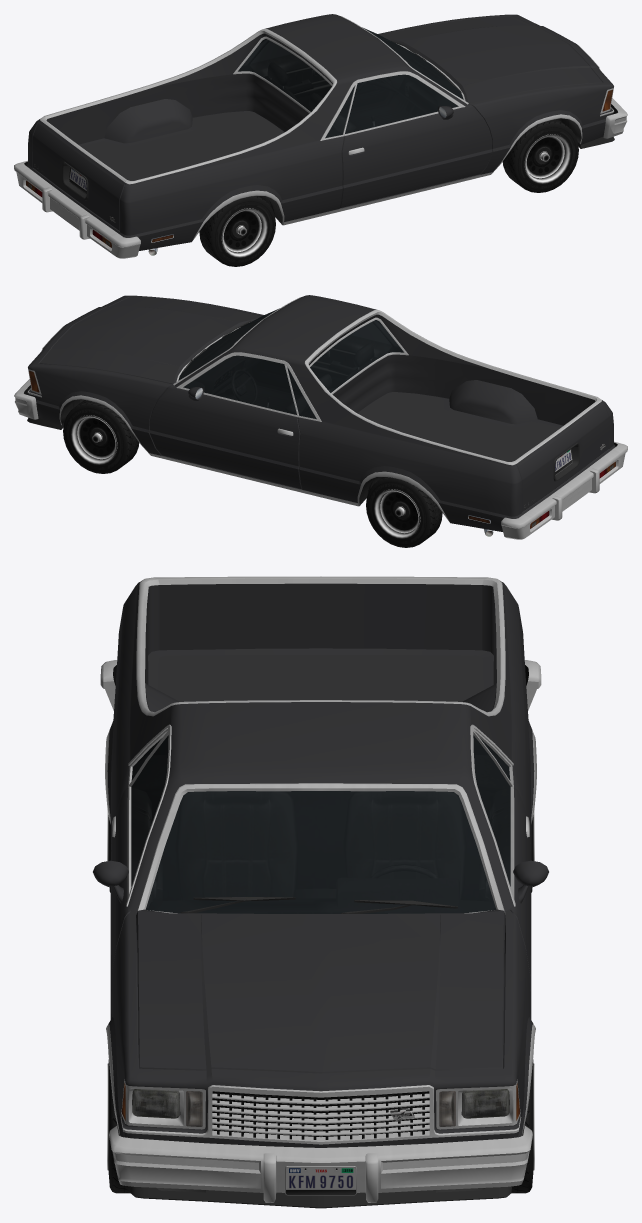
The model's file is elalamo78.glb.
The picture shows the model from 3 angles, top to bottom: view 1: azimuth 30°, elevation 25°; view 2: azimuth 150°, elevation 25°; view 3: azimuth 270°, elevation 25°; orthographic projection. The views are drawn at different scales.
Parts seen in each view (by area): view 1: ElAlamo78_Body_ElAlamo78_Bodymat_0, ElAlamo78_Hood_ElAlamo78_Bodymat_0, ElAlamo78_Bottom_UCB_BOTTOM_0, ElAlamo78_Interior_UCB_Interiors_2_0, ElAlamo78_Trunkdoor_ElAlamo78_Bodymat_0, ElAlamo78_WheelStock_FR_RB1c_Tire_1k_0, ElAlamo78_WheelStock_RR_RB1c_Tire_1k_0, ElAlamo78_Glass_Driver001_UCB_Lights_and_Glass_Transperent_0, ElAlamo78_Bumper_Rear_UCB_BOTTOM_0, ElAlamo78_Rear_Glass_UCB_Lights_and_Glass_Transperent_0, ElAlamo78_Windshield_UCB_Lights_and_Glass_Transperent_0, ElAlamo78_Trunkdoor_Inner_UCB_BOTTOM_0 (+3 smaller); view 2: ElAlamo78_Body_ElAlamo78_Bodymat_0, ElAlamo78_Hood_ElAlamo78_Bodymat_0, ElAlamo78_Bottom_UCB_BOTTOM_0, ElAlamo78_Interior_UCB_Interiors_2_0, ElAlamo78_Trunkdoor_ElAlamo78_Bodymat_0, ElAlamo78_WheelStock_FL_RB1c_Tire_1k_0, ElAlamo78_WheelStock_RL_RB1c_Tire_1k_0, ElAlamo78_Glass_Driver_UCB_Lights_and_Glass_Transperent_0, ElAlamo78_Bumper_Rear_UCB_BOTTOM_0, ElAlamo78_Rear_Glass_UCB_Lights_and_Glass_Transperent_0, ElAlamo78_Windshield_UCB_Lights_and_Glass_Transperent_0, ElAlamo78_Trunkdoor_Inner_UCB_BOTTOM_0 (+3 smaller); view 3: ElAlamo78_Body_ElAlamo78_Bodymat_0, ElAlamo78_Hood_ElAlamo78_Bodymat_0, ElAlamo78_Interior_UCB_Interiors_2_0, ElAlamo78_Windshield_UCB_Lights_and_Glass_Transperent_0, ElAlamo78_Bottom_UCB_BOTTOM_0, ElAlamo78_Trunkdoor_ElAlamo78_Bodymat_0, ElAlamo78_Bumper_Front_UCB_BOTTOM_0, ElAlamo78_Headlights_UCB_Lights_and_Glass_Transperent_0, ElAlamo78_Headlights001_UCB_Lights_and_Glass_0, ElAlamo78_Glass_Driver_UCB_Lights_and_Glass_Transperent_0, ElAlamo78_Glass_Driver001_UCB_Lights_and_Glass_Transperent_0, ElAlamo78_Trunkdoor_Inner_UCB_BOTTOM_0 (+4 smaller).
Boxes of the visible parts, left/top/right/bottom form: ElAlamo78_Body_ElAlamo78_Bodymat_0: left=26, top=14, right=613, bottom=250; ElAlamo78_Hood_ElAlamo78_Bodymat_0: left=380, top=16, right=602, bottom=103; ElAlamo78_Bottom_UCB_BOTTOM_0: left=40, top=16, right=614, bottom=255; ElAlamo78_Interior_UCB_Interiors_2_0: left=239, top=39, right=462, bottom=137; ElAlamo78_Trunkdoor_ElAlamo78_Bodymat_0: left=33, top=121, right=125, bottom=230; ElAlamo78_WheelStock_FR_RB1c_Tire_1k_0: left=502, top=119, right=578, bottom=192; ElAlamo78_WheelStock_RR_RB1c_Tire_1k_0: left=199, top=196, right=275, bottom=266; ElAlamo78_Glass_Driver001_UCB_Lights_and_Glass_Transperent_0: left=345, top=74, right=458, bottom=133; ElAlamo78_Bumper_Rear_UCB_BOTTOM_0: left=14, top=160, right=140, bottom=258; ElAlamo78_Rear_Glass_UCB_Lights_and_Glass_Transperent_0: left=238, top=39, right=331, bottom=111; ElAlamo78_Windshield_UCB_Lights_and_Glass_Transperent_0: left=362, top=27, right=463, bottom=99; ElAlamo78_Trunkdoor_Inner_UCB_BOTTOM_0: left=41, top=120, right=126, bottom=200; ElAlamo78_Body_ElAlamo78_Bodymat_0: left=28, top=295, right=615, bottom=531; ElAlamo78_Hood_ElAlamo78_Bodymat_0: left=39, top=297, right=261, bottom=384; ElAlamo78_Bottom_UCB_BOTTOM_0: left=27, top=297, right=601, bottom=536; ElAlamo78_Interior_UCB_Interiors_2_0: left=179, top=320, right=402, bottom=418; ElAlamo78_Trunkdoor_ElAlamo78_Bodymat_0: left=516, top=402, right=608, bottom=511; ElAlamo78_WheelStock_FL_RB1c_Tire_1k_0: left=63, top=400, right=139, bottom=473; ElAlamo78_WheelStock_RL_RB1c_Tire_1k_0: left=366, top=477, right=442, bottom=547; ElAlamo78_Glass_Driver_UCB_Lights_and_Glass_Transperent_0: left=183, top=355, right=296, bottom=414; ElAlamo78_Bumper_Rear_UCB_BOTTOM_0: left=501, top=441, right=627, bottom=539; ElAlamo78_Rear_Glass_UCB_Lights_and_Glass_Transperent_0: left=310, top=320, right=403, bottom=392; ElAlamo78_Windshield_UCB_Lights_and_Glass_Transperent_0: left=178, top=308, right=279, bottom=380; ElAlamo78_Trunkdoor_Inner_UCB_BOTTOM_0: left=515, top=401, right=600, bottom=481; ElAlamo78_Body_ElAlamo78_Bodymat_0: left=93, top=581, right=548, bottom=1147; ElAlamo78_Hood_ElAlamo78_Bodymat_0: left=136, top=909, right=505, bottom=1073; ElAlamo78_Interior_UCB_Interiors_2_0: left=132, top=737, right=509, bottom=913; ElAlamo78_Windshield_UCB_Lights_and_Glass_Transperent_0: left=145, top=791, right=496, bottom=913; ElAlamo78_Bottom_UCB_BOTTOM_0: left=105, top=577, right=536, bottom=1208; ElAlamo78_Trunkdoor_ElAlamo78_Bodymat_0: left=159, top=583, right=482, bottom=650; ElAlamo78_Bumper_Front_UCB_BOTTOM_0: left=109, top=1125, right=532, bottom=1202; ElAlamo78_Headlights_UCB_Lights_and_Glass_Transperent_0: left=132, top=1089, right=509, bottom=1126; ElAlamo78_Headlights001_UCB_Lights_and_Glass_0: left=132, top=1089, right=509, bottom=1126; ElAlamo78_Glass_Driver_UCB_Lights_and_Glass_Transperent_0: left=473, top=735, right=510, bottom=886; ElAlamo78_Glass_Driver001_UCB_Lights_and_Glass_Transperent_0: left=131, top=735, right=168, bottom=886; ElAlamo78_Trunkdoor_Inner_UCB_BOTTOM_0: left=154, top=576, right=487, bottom=584.
Bounding box in the file's own units: 5.13 × 1.38 × 1.91.
Materials: 9 (8 with a texture image).
